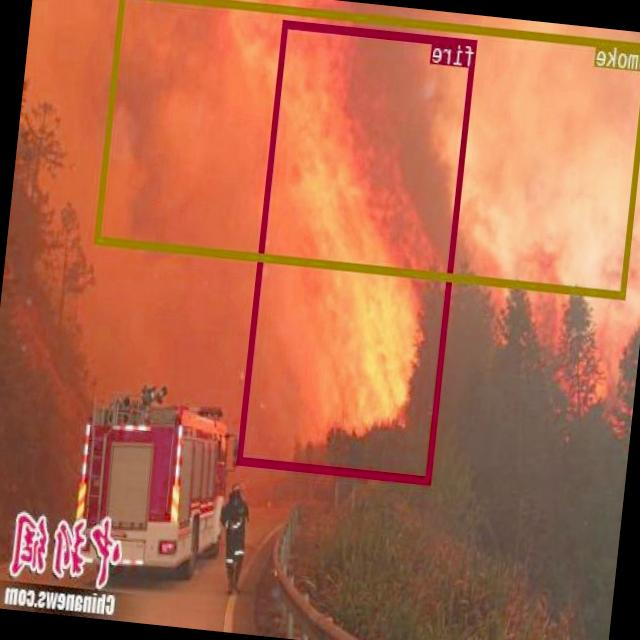fire: (237, 18, 478, 482)
smoke: (95, 0, 640, 297)
